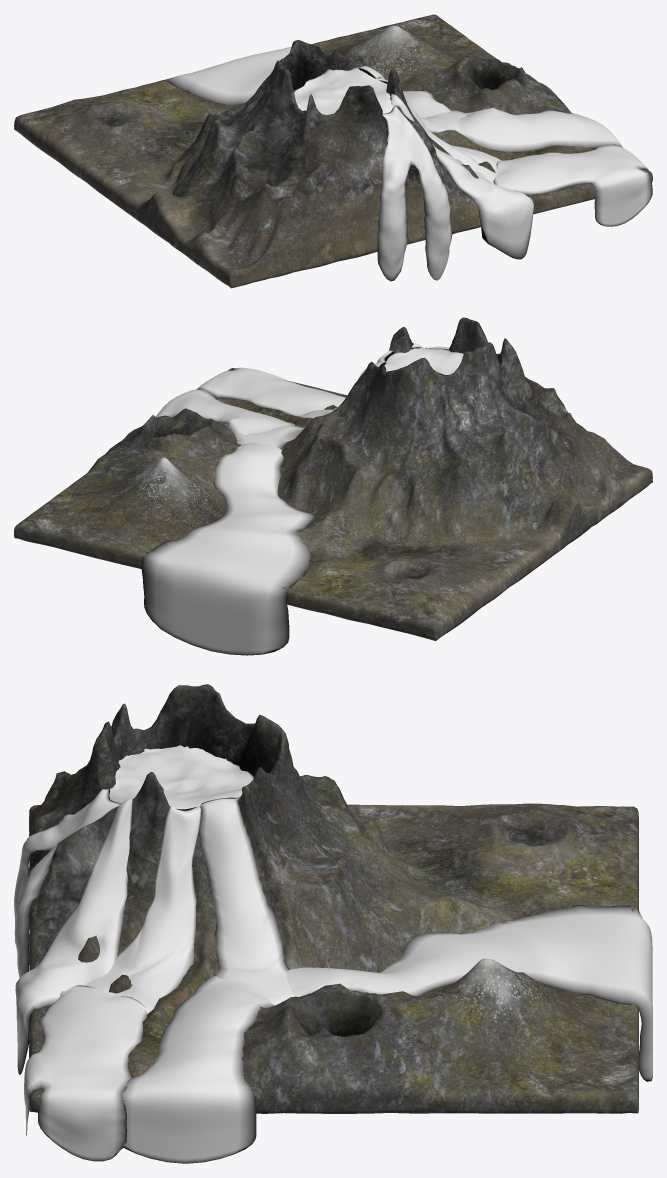
The model's file is volcano.glb.
3 renders of one model, top to bottom at view 1: azimuth 30°, elevation 25°; view 2: azimuth 150°, elevation 25°; view 3: azimuth 270°, elevation 25°, orthographic. The views are drawn at different scales.
Visible parts, largest first — view 1: volcano, lake, lava_2, lake_1, lava_3, cup, lava_1, lava; view 2: volcano, lake, lake_1, cup, lava; view 3: volcano, lake, lake_1, lava, lava_3, lava_1, cup, lava_2.
Part boxes in pixels (x1,y1,x2,y2): volcano: [14, 14, 652, 288]; lake: [164, 47, 622, 152]; lava_2: [377, 106, 452, 281]; lake_1: [493, 144, 652, 226]; lava_3: [390, 94, 533, 259]; cup: [294, 67, 393, 114]; lava_1: [377, 78, 501, 183]; lava: [359, 66, 469, 132]; volcano: [14, 317, 652, 640]; lake: [141, 389, 314, 655]; lake_1: [197, 367, 345, 416]; cup: [384, 347, 463, 374]; lava: [237, 362, 386, 449]; volcano: [29, 684, 638, 1113]; lake: [121, 905, 652, 1163]; lake_1: [24, 985, 147, 1161]; lava: [198, 797, 295, 1001]; lava_3: [15, 798, 133, 1074]; lava_1: [84, 806, 201, 1013]; cup: [109, 745, 253, 809]; lava_2: [14, 788, 120, 978].
Bounding box in the file's own units: 57.06 × 26.95 × 52.01.
Materials: 1 (1 with a texture image).
